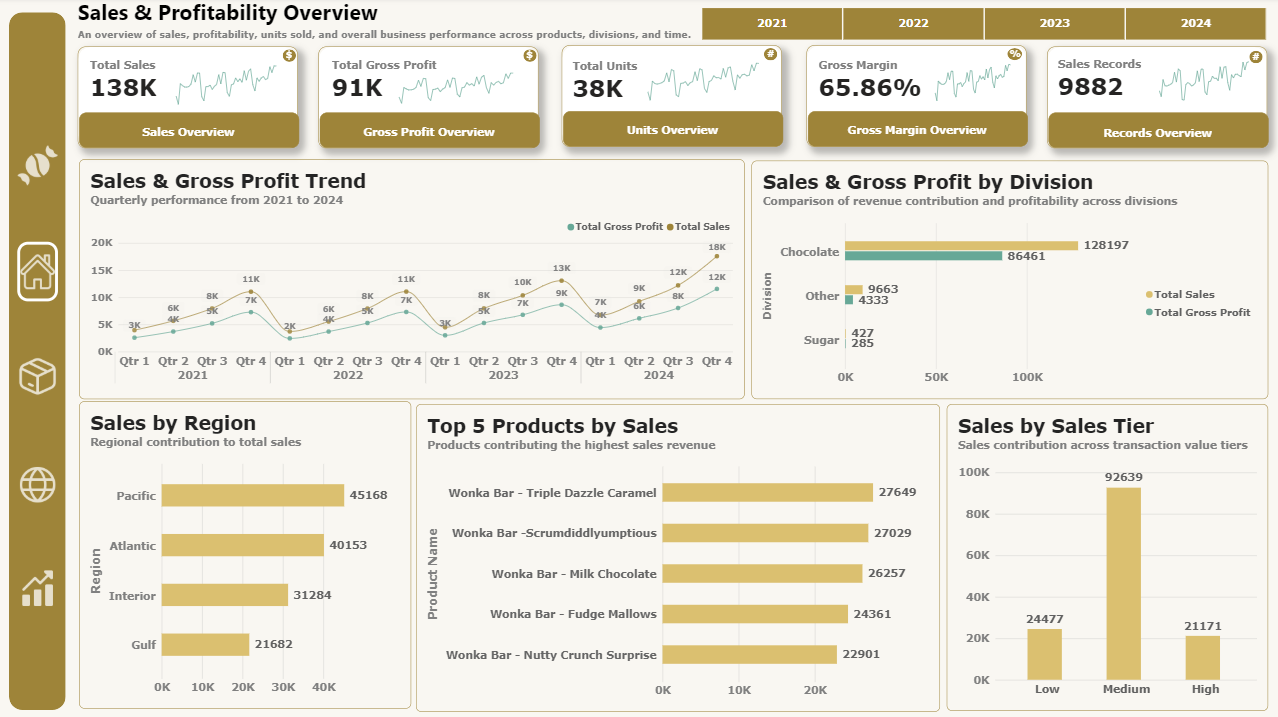

Layout of this report page (visuals, bound fields, positions):
{"tool":"powerbi","page":{"name":"Executive Overview","canvas":[1920,1080],"ordinal":0},"visuals":[{"type":"slicer","fields":{"Values":["06_Clean_Sales.Year"]},"box":[1035.1,13.8,885.5,51.2],"z":0,"group":"g6"},{"type":"group","id":"g1","title":"Group 1","box":[16.5,22.7,84.6,1048],"z":0,"group":"g12"},{"type":"shape","box":[1212,72.2,330.3,152.8],"z":0,"group":"g8"},{"type":"shape","box":[846.2,72.4,330.3,152.8],"z":0,"group":"g9"},{"type":"group","id":"g2","title":"Group 5","box":[119.6,73.4,330.2,152.8],"z":0,"group":"g3"},{"type":"shape","box":[119.6,73.4,330.3,152.8],"z":0,"group":"g4"},{"type":"shape","box":[481.3,74.8,330.3,152.8],"z":0,"group":"g5"},{"type":"shape","box":[1574.6,75.5,330.3,152.8],"z":0,"group":"g11"},{"type":"image","box":[28.3,523.9,60.9,89.7],"z":0,"group":"g13"},{"type":"textbox","box":[119.6,0,494.9,47],"z":1000,"group":"g6"},{"type":"group","id":"g3","title":"Group 12","box":[119.6,72.2,1785.2,156.1],"z":1000,"group":"g12"},{"type":"group","id":"g4","title":"Group 2","box":[119.6,73.4,330.2,152.8],"z":1000,"group":"g2"},{"type":"group","id":"g5","title":"Group 6","box":[481.3,74.8,330.9,152.8],"z":1000,"group":"g3"},{"type":"shape","box":[1213,172.1,329.9,52.8],"z":1000,"group":"g8"},{"type":"shape","box":[847.2,172.3,329.9,52.8],"z":1000,"group":"g9"},{"type":"shape","box":[120.6,173.3,329.9,52.8],"z":1000,"group":"g4"},{"type":"shape","box":[482.3,174.7,329.9,52.8],"z":1000,"group":"g5"},{"type":"shape","box":[1575.6,175.4,329.9,52.8],"z":1000,"group":"g11"},{"type":"image","box":[28.3,367.6,60.9,89.7],"z":1000,"group":"g13"},{"type":"group","id":"g6","title":"Group 13","box":[119.6,0,1800.9,72.2],"z":2000,"group":"g12"},{"type":"textbox","box":[119.9,47.4,938.6,24.8],"z":2000,"group":"g6"},{"type":"group","id":"g7","title":"Group 8","box":[1212,72.2,330.8,152.8],"z":2000,"group":"g3"},{"type":"textbox","box":[860.2,190.6,302.7,25.7],"z":2000,"group":"g9"},{"type":"textbox","box":[133.9,191.8,302.7,25.7],"z":2000,"group":"g2"},{"type":"textbox","box":[495.6,193.2,302.7,25.7],"z":2000,"group":"g5"},{"type":"image","box":[28.3,203.8,60.9,97.2],"z":2000,"group":"g13"},{"type":"shape","box":[16.5,22.7,85.1,1047.1],"z":2500,"group":"g1"},{"type":"group","id":"g8","title":"Group 2","box":[1212,72.2,330.2,152.8],"z":3000,"group":"g7"},{"type":"group","id":"g9","title":"Group 10","box":[846.2,72.4,330.9,152.8],"z":3000,"group":"g3"},{"type":"lineChart","title":"Sales & Gross Profit Trend","fields":{"Y":["06_Clean_Sales.Total Gross Profit","06_Clean_Sales.Total Sales"],"Category":["06_Clean_Sales.Month Year.Variation.Date Hierarchy.Year","06_Clean_Sales.Month Year.Variation.Date Hierarchy.Quarter"]},"box":[121.7,243.4,998.5,360],"z":3000,"group":"g12"},{"type":"image","box":[28.3,680.2,60.9,102.1],"z":3000,"group":"g13"},{"type":"group","id":"g10","title":"Group 11","box":[1574.6,75.1,330.2,153.2],"z":4000,"group":"g3"},{"type":"group","id":"g11","title":"Group 2","box":[1574.6,75.5,330.2,152.8],"z":4000,"group":"g10"},{"type":"cardVisual","fields":{"Data":["06_Clean_Sales.Total Sales"]},"box":[120.9,88.7,144.9,72.9],"z":4000,"group":"g2"},{"type":"cardVisual","fields":{"Data":["06_Clean_Sales.Total Gross Profit"]},"box":[486.3,88.7,209.6,72.9],"z":4000,"group":"g5"},{"type":"clusteredBarChart","title":"Sales & Gross Profit by Division","fields":{"Category":["06_Clean_Sales.Division"],"Y":["06_Clean_Sales.Total Sales","06_Clean_Sales.Total Gross Profit"]},"box":[1130,245,775,357.5],"z":4000,"group":"g12"},{"type":"image","box":[28.3,849,60.9,74.7],"z":4000,"group":"g13"},{"type":"cardVisual","fields":{"Data":["06_Clean_Sales.Total Units"]},"box":[846.6,90,136.4,72.6],"z":5000,"group":"g9"},{"type":"clusteredBarChart","title":"Sales by Region","fields":{"Y":["06_Clean_Sales.Total Sales"],"Category":["06_Clean_Sales.Region"]},"box":[121.7,607,498,461],"z":5000,"group":"g12"},{"type":"lineChart","fields":{"Y":["06_Clean_Sales.Total Sales"],"Category":["06_Clean_Sales.Month Year.Variation.Date Hierarchy.Year","06_Clean_Sales.Month Year.Variation.Date Hierarchy.Month"]},"box":[240.6,78.8,202,97.8],"z":6000,"group":"g2"},{"type":"textbox","box":[1226.3,190.6,302.7,25.7],"z":6000,"group":"g7"},{"type":"clusteredBarChart","title":"Top 5 Products by Sales","fields":{"Y":["06_Clean_Sales.Total Sales"],"Category":["06_Clean_Sales.Product Name"]},"box":[627,611,786,462],"z":6000,"group":"g12"},{"type":"lineChart","fields":{"Y":["06_Clean_Sales.Total Units"],"Category":["06_Clean_Sales.Month Year.Variation.Date Hierarchy.Year","06_Clean_Sales.Month Year.Variation.Date Hierarchy.Month"]},"box":[949.6,76.4,218.5,95.7],"z":7000,"group":"g9"},{"type":"columnChart","title":"Sales by Sales Tier","fields":{"Category":["06_Clean_Sales.Sales Tier"],"Y":["06_Clean_Sales.Total Sales"]},"box":[1422.5,610,482.5,460],"z":7000,"group":"g12"},{"type":"group","id":"g12","title":"Group 14","box":[16.5,0,1904.1,1073],"z":7001},{"type":"group","id":"g13","title":"Group 3","box":[28.3,203.8,60.9,719.9],"z":7009,"group":"g1"},{"type":"shape","box":[1514.7,76.5,22.4,18.6],"z":8000,"group":"g15"},{"type":"shape","box":[426.2,76.9,20.2,19],"z":8000,"group":"g14"},{"type":"shape","box":[1148.4,77.1,20.2,19],"z":8000,"group":"g17"},{"type":"shape","box":[787.9,78.3,20.2,19],"z":8000,"group":"g5"},{"type":"shape","box":[1877,80.6,20.2,19],"z":8000,"group":"g16"},{"type":"textbox","box":[1588.9,193.9,302.7,25.7],"z":8000,"group":"g10"},{"type":"cardVisual","fields":{"Data":["06_Clean_Sales.Gross Margin"]},"box":[1213.4,87.5,198.2,76.7],"z":9000,"group":"g7"},{"type":"group","id":"g14","title":"Group 4","box":[426.2,76.9,20.1,19.1],"z":10000,"group":"g2"},{"type":"textbox","box":[431,76.9,11.1,17.5],"z":10000,"group":"g14"},{"type":"textbox","box":[1153.2,77.1,11.1,17.5],"z":10000,"group":"g17"},{"type":"textbox","box":[1511.8,77.4,28.5,17.5],"z":10000,"group":"g15"},{"type":"textbox","box":[792.6,78.3,11.1,17.5],"z":10000,"group":"g5"},{"type":"textbox","box":[1881.8,80.6,11.1,17.5],"z":10000,"group":"g16"},{"type":"cardVisual","fields":{"Data":["06_Clean_Sales.Sales Records"]},"box":[1575,90,190.5,69.3],"z":10000,"group":"g10"},{"type":"lineChart","fields":{"Y":["06_Clean_Sales.Total Sales"],"Category":["06_Clean_Sales.Month Year.Variation.Date Hierarchy.Year","06_Clean_Sales.Month Year.Variation.Date Hierarchy.Month"]},"box":[1378.1,78.8,164.7,94.1],"z":12000,"group":"g7"},{"type":"stackedAreaChart","fields":{"Y":["06_Clean_Sales.Total Gross Profit"],"Category":["06_Clean_Sales.Month Year.Variation.Date Hierarchy.Year","06_Clean_Sales.Month Year.Variation.Date Hierarchy.Month"]},"box":[572.5,84.9,231.1,95.7],"z":12000,"group":"g5"},{"type":"lineChart","fields":{"Y":["06_Clean_Sales.Sales Records"],"Category":["06_Clean_Sales.Month Year.Variation.Date Hierarchy.Year","06_Clean_Sales.Month Year.Variation.Date Hierarchy.Month"]},"box":[1717.9,75.1,186.1,97.8],"z":13000,"group":"g10"},{"type":"group","id":"g15","title":"Group 7","box":[1511.8,76.5,28.5,18.6],"z":17000,"group":"g7"},{"type":"group","id":"g16","title":"Group 9","box":[1877,80.6,20,19.2],"z":17002,"group":"g10"},{"type":"group","id":"g17","title":"Group 9","box":[1148.4,77.1,20,19.2],"z":17003,"group":"g9"}]}

Visuals, with their boxes in screenshot pixels (x1, y1, x2, y2), scaled from the page's 1920x1080 canvas onto the 1278x717 screenshot:
slicer - 06_Clean_Sales.Year: box=[689, 9, 1277, 43]
"Group 1" group: box=[11, 15, 67, 711]
shape: box=[807, 48, 1027, 149]
shape: box=[563, 48, 783, 150]
"Group 5" group: box=[80, 49, 299, 150]
shape: box=[80, 49, 299, 150]
shape: box=[320, 50, 540, 151]
shape: box=[1048, 50, 1268, 152]
image: box=[19, 348, 59, 407]
textbox: box=[80, 0, 409, 31]
"Group 12" group: box=[80, 48, 1268, 152]
"Group 2" group: box=[80, 49, 299, 150]
"Group 6" group: box=[320, 50, 541, 151]
shape: box=[807, 114, 1027, 149]
shape: box=[564, 114, 784, 149]
shape: box=[80, 115, 300, 150]
shape: box=[321, 116, 541, 151]
shape: box=[1049, 116, 1268, 151]
image: box=[19, 244, 59, 304]
"Group 13" group: box=[80, 0, 1277, 48]
textbox: box=[80, 31, 705, 48]
"Group 8" group: box=[807, 48, 1027, 149]
textbox: box=[573, 127, 774, 144]
textbox: box=[89, 127, 291, 144]
textbox: box=[330, 128, 531, 145]
image: box=[19, 135, 59, 200]
shape: box=[11, 15, 68, 710]
"Group 2" group: box=[807, 48, 1027, 149]
"Group 10" group: box=[563, 48, 784, 150]
"Sales & Gross Profit Trend" lineChart: box=[81, 162, 746, 401]
image: box=[19, 452, 59, 519]
"Group 11" group: box=[1048, 50, 1268, 152]
"Group 2" group: box=[1048, 50, 1268, 152]
cardVisual - 06_Clean_Sales.Total Sales: box=[80, 59, 177, 107]
cardVisual - 06_Clean_Sales.Total Gross Profit: box=[324, 59, 463, 107]
"Sales & Gross Profit by Division" clusteredBarChart: box=[752, 163, 1268, 400]
image: box=[19, 564, 59, 613]
cardVisual - 06_Clean_Sales.Total Units: box=[564, 60, 654, 108]
"Sales by Region" clusteredBarChart: box=[81, 403, 412, 709]
lineChart - 06_Clean_Sales.Total Sales x 06_Clean_Sales.Month Year.Variation.Date Hierarchy.Year: box=[160, 52, 295, 117]
textbox: box=[816, 127, 1018, 144]
"Top 5 Products by Sales" clusteredBarChart: box=[417, 406, 941, 712]
lineChart - 06_Clean_Sales.Total Units x 06_Clean_Sales.Month Year.Variation.Date Hierarchy.Year: box=[632, 51, 778, 114]
"Sales by Sales Tier" columnChart: box=[947, 405, 1268, 710]
"Group 14" group: box=[11, 0, 1277, 712]
"Group 3" group: box=[19, 135, 59, 613]
shape: box=[1008, 51, 1023, 63]
shape: box=[284, 51, 297, 64]
shape: box=[764, 51, 778, 64]
shape: box=[524, 52, 538, 65]
shape: box=[1249, 54, 1263, 66]
textbox: box=[1058, 129, 1259, 146]
cardVisual - 06_Clean_Sales.Gross Margin: box=[808, 58, 940, 109]
"Group 4" group: box=[284, 51, 297, 64]
textbox: box=[287, 51, 294, 63]
textbox: box=[768, 51, 775, 63]
textbox: box=[1006, 51, 1025, 63]
textbox: box=[528, 52, 535, 64]
textbox: box=[1253, 54, 1260, 65]
cardVisual - 06_Clean_Sales.Sales Records: box=[1048, 60, 1175, 106]
lineChart - 06_Clean_Sales.Total Sales x 06_Clean_Sales.Month Year.Variation.Date Hierarchy.Year: box=[917, 52, 1027, 115]
stackedAreaChart - 06_Clean_Sales.Total Gross Profit x 06_Clean_Sales.Month Year.Variation.Date Hierarchy.Year: box=[381, 56, 535, 120]
lineChart - 06_Clean_Sales.Sales Records x 06_Clean_Sales.Month Year.Variation.Date Hierarchy.Year: box=[1143, 50, 1267, 115]
"Group 7" group: box=[1006, 51, 1025, 63]
"Group 9" group: box=[1249, 54, 1263, 66]
"Group 9" group: box=[764, 51, 778, 64]
